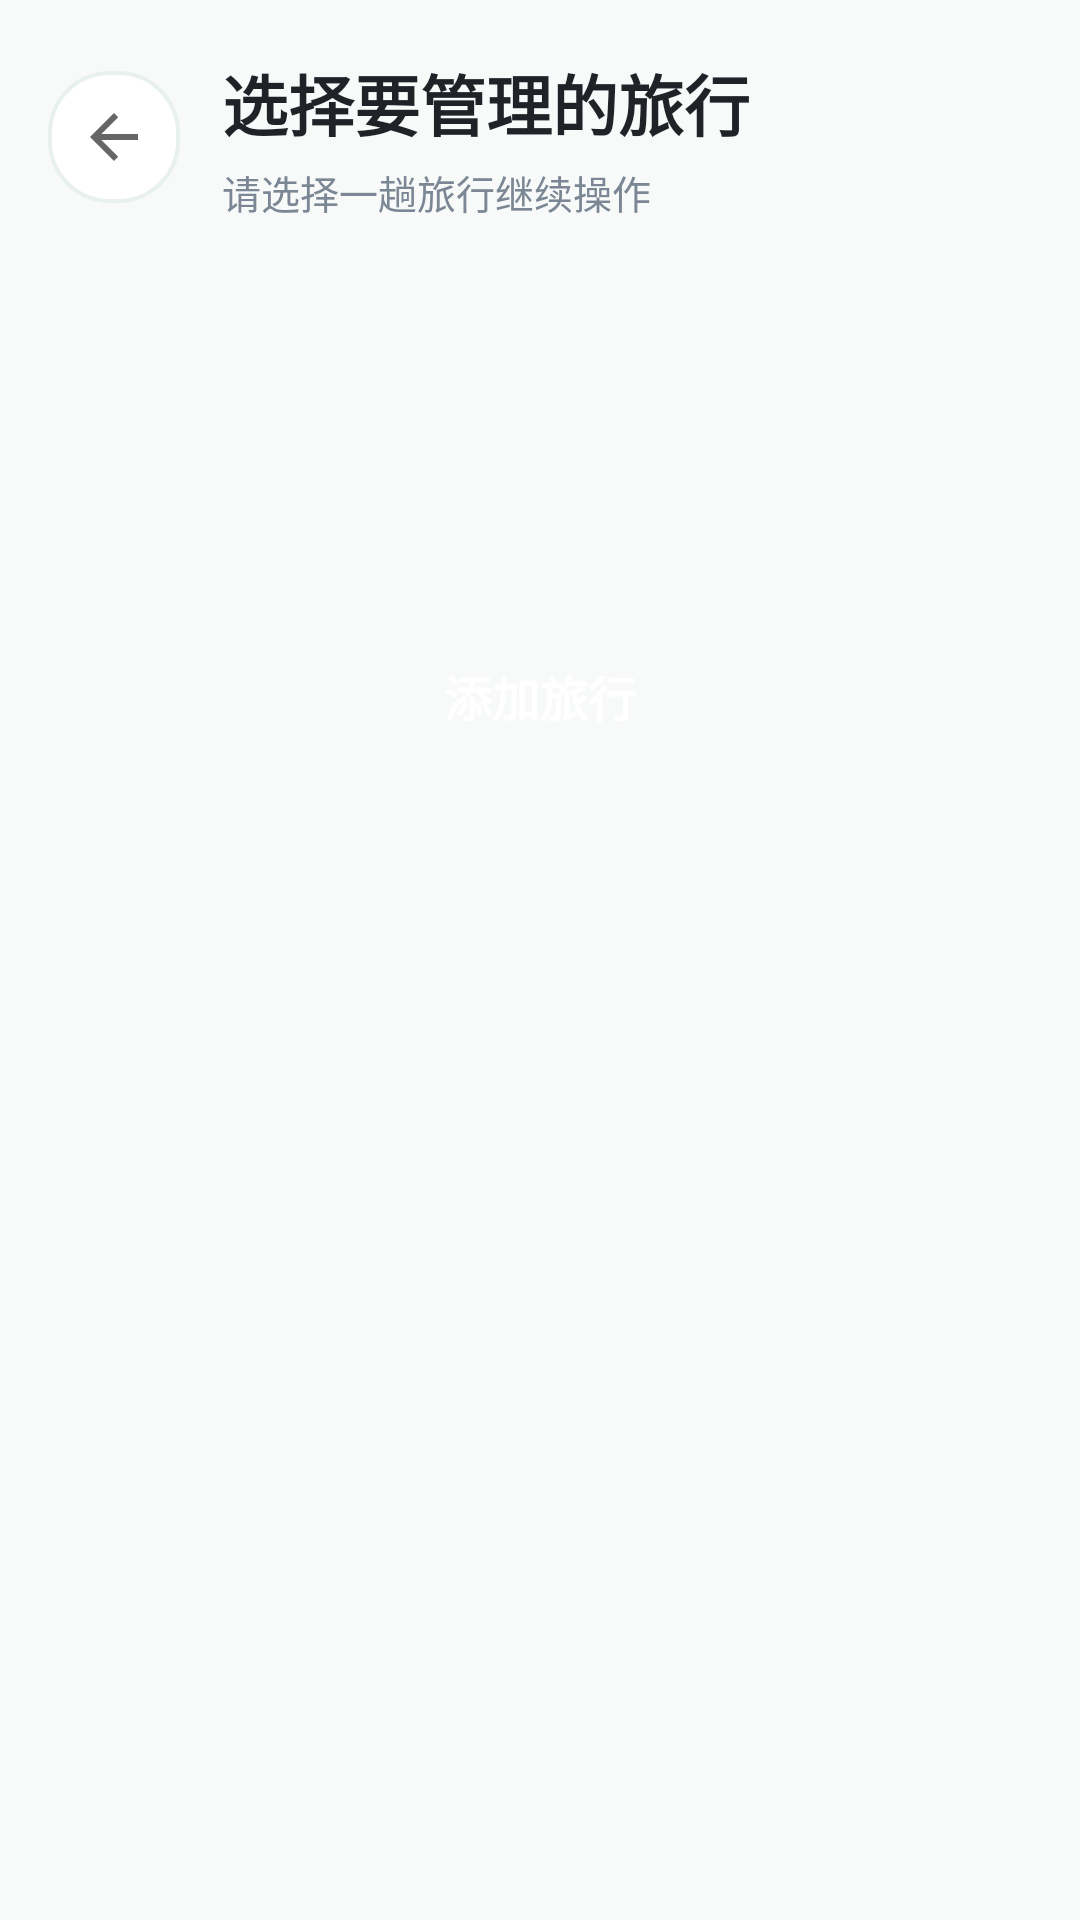

Point at icon controls on the screen. Image size 1080w x 1920h, points as point (x, y).
返回: point (114, 137)
